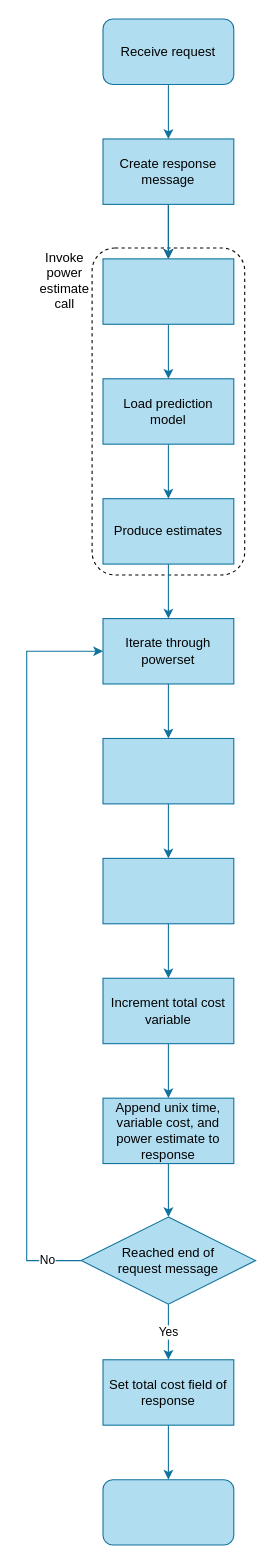
Image size: 275x1564. Some labels were removed from this diagram. The shapes that lost their labels are listed below. From the top down, each one's centre as x and y in pixels, then its label:
At point 168,291: "Structure data".
At point 168,770: "Calculate timespan of current power estimate".
At point 168,890: "Calculate additional cost of timespan".
At point 168,1512: "Return response".
